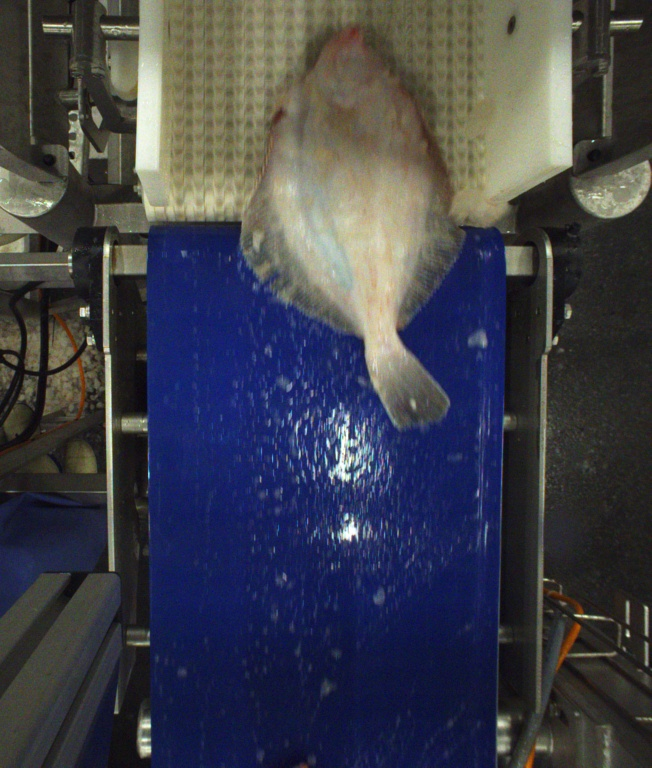PLE: (239, 24, 463, 434)
